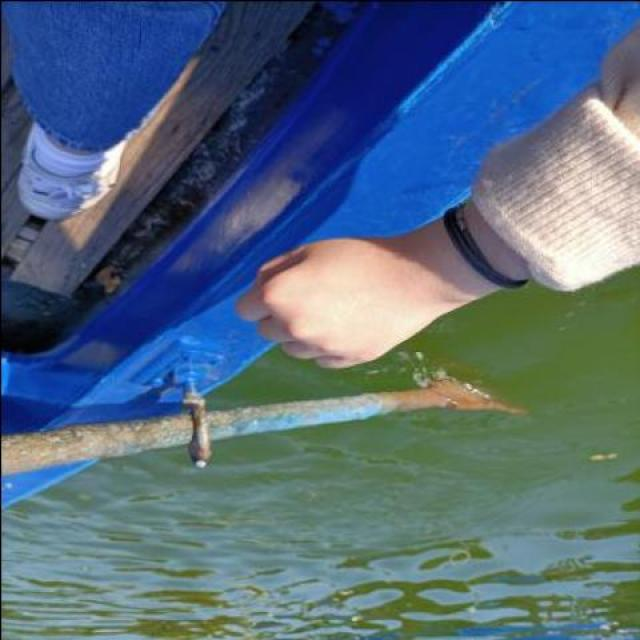Closed Hand: (229, 230, 459, 374)
